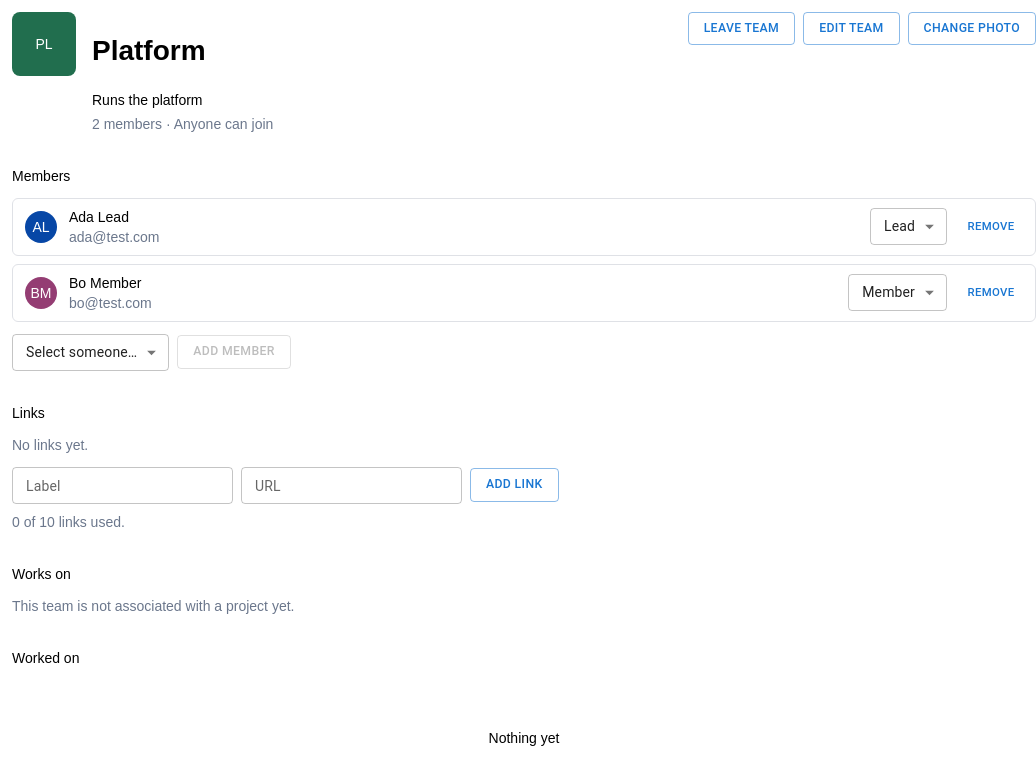
Test case: JL-433 — members section › shows the last-Lead refusal rather than appearing to succeed
Check: the text "Ada Lead" is shown, box [69, 208, 129, 224]
Click the button with aria-label "remove Ada Lead from the team" at (991,226), box [959, 212, 1023, 240]
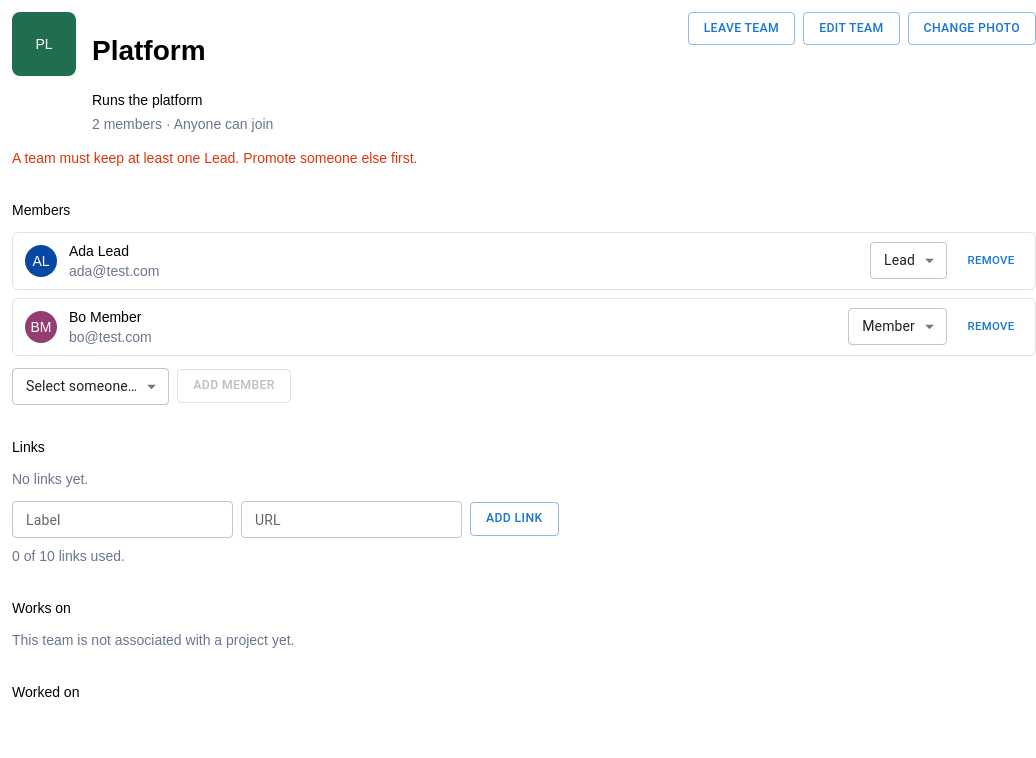
Check: the message "A team must keep at least one Lead. Promote someone else first." is shown, box [12, 150, 418, 166]
